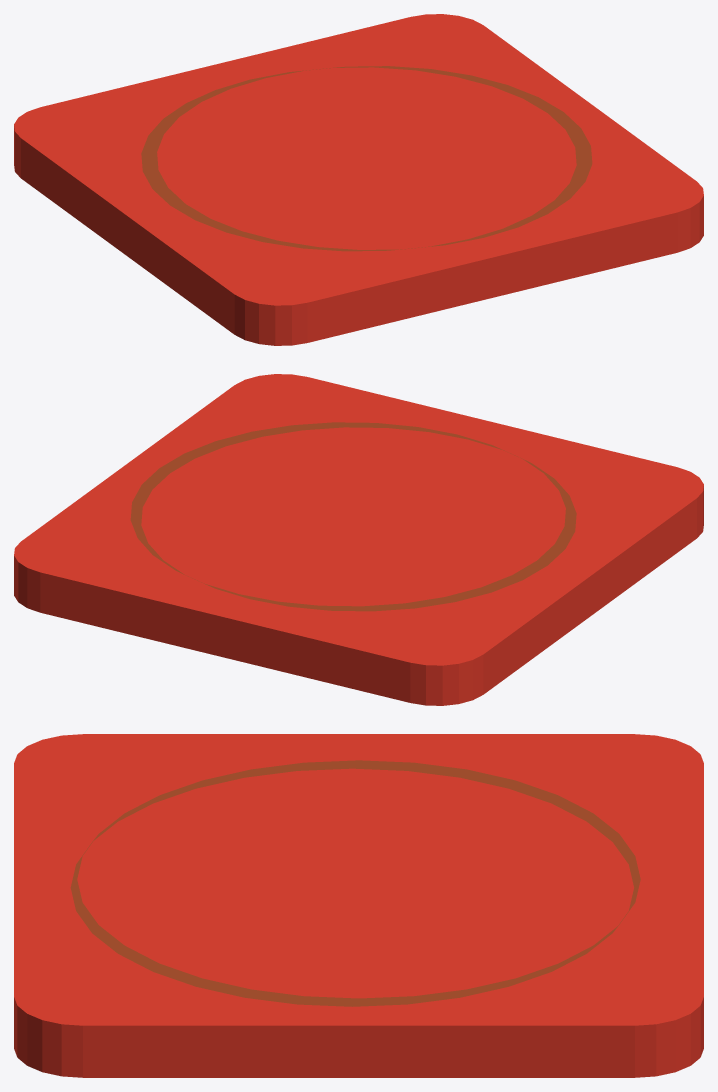
Rendered from platform.dae.
3 views of the same model, one above another, from view 1: azimuth 30°, elevation 25°; view 2: azimuth 150°, elevation 25°; view 3: azimuth 270°, elevation 25° (orthographic). The views are drawn at different scales.
Visible parts, largest first — view 1: Cube, Circle; view 2: Cube, Circle; view 3: Cube, Circle.
Part boxes in pixels (x1,y1,x2,y2): Cube: (14, 14, 703, 345); Circle: (141, 66, 592, 251); Cube: (14, 374, 703, 705); Circle: (130, 422, 576, 611); Cube: (14, 734, 703, 1077); Circle: (70, 760, 640, 1006).
Bounding box in the file's own units: 1.2 × 1.2 × 0.101.
